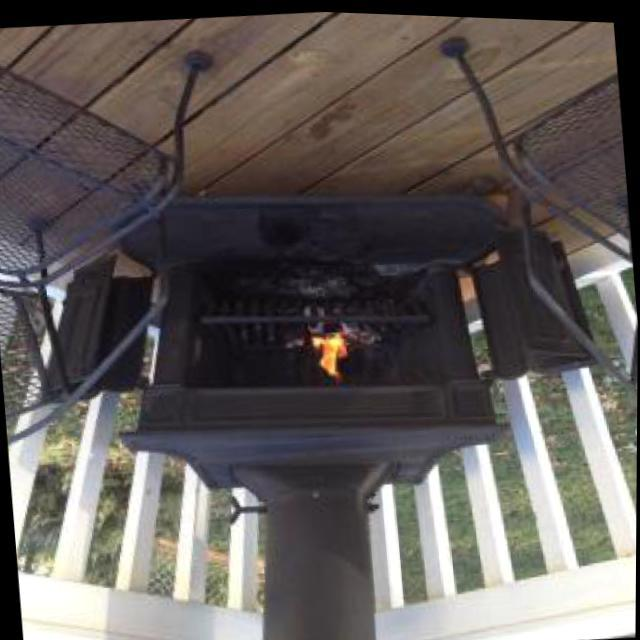fire: (277, 300, 418, 392)
